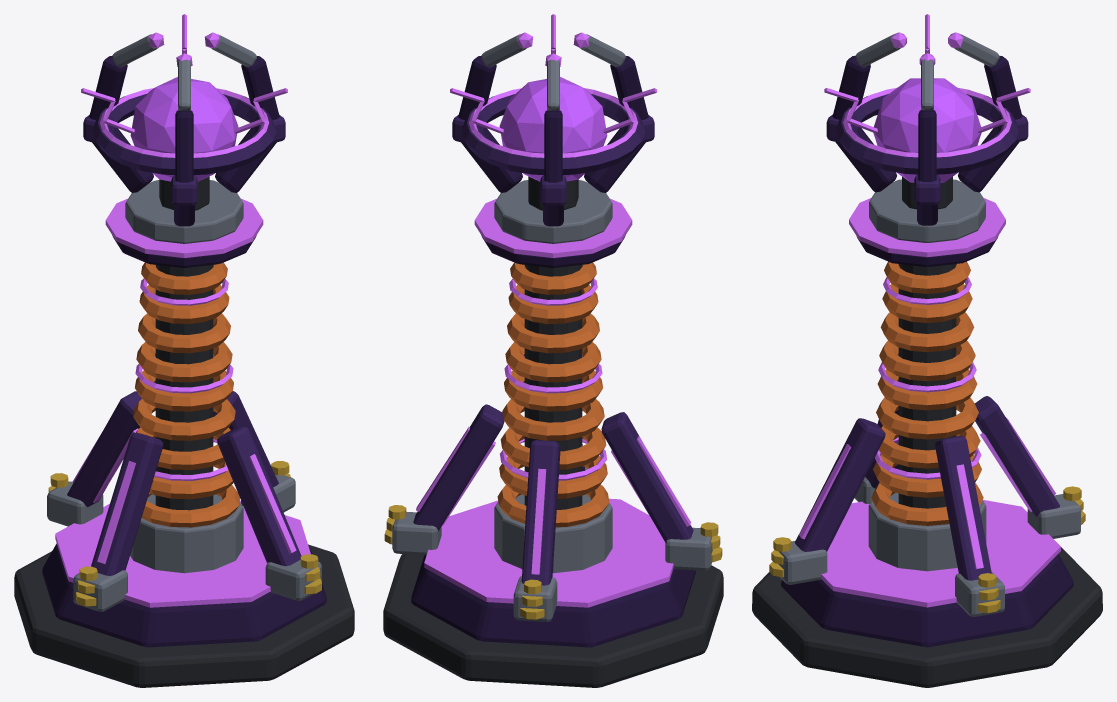
Rendered from torreta_tesla.glb.
The picture shows the model from 3 angles, left to right: view 1: azimuth 30°, elevation 25°; view 2: azimuth 150°, elevation 25°; view 3: azimuth 270°, elevation 25°; orthographic projection.
Visible parts, largest first — view 1: Base, Pivot; view 2: Base, Pivot; view 3: Base, Pivot.
Part boxes in pixels (x1,y1,x2,y2): Base: [14, 198, 354, 687]; Pivot: [81, 14, 287, 243]; Base: [383, 198, 723, 687]; Pivot: [450, 14, 656, 243]; Base: [752, 198, 1102, 687]; Pivot: [824, 14, 1030, 242].
Size of the model in its own units: 2.68 by 4.87 by 2.68.
1 material, 1 textured.
